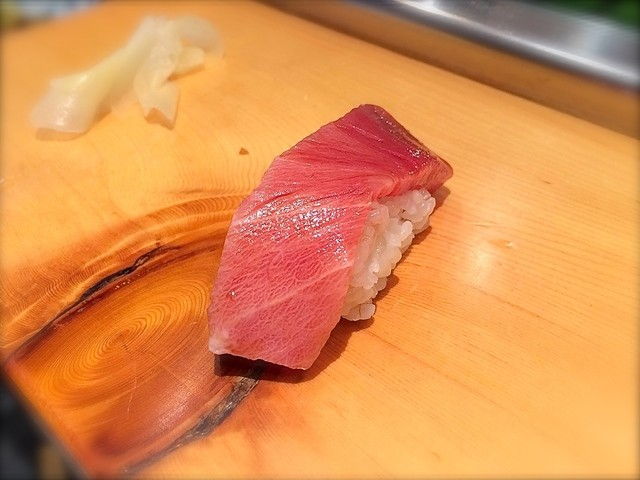medium_fatty_tuna: (205, 98, 447, 376)
